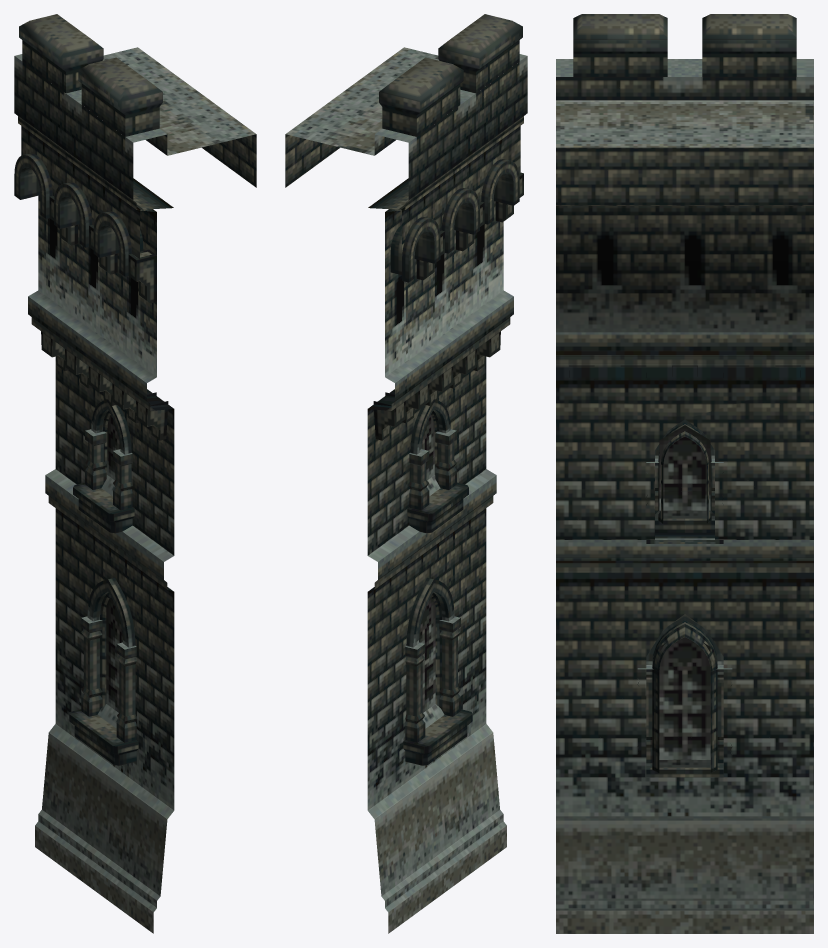
Rendered from EnvBdgMD_Castle_Raimei_A_Wall_A_Window_Loop_300W.FBX.
The picture shows the model from 3 angles, left to right: view 1: azimuth 30°, elevation 25°; view 2: azimuth 150°, elevation 25°; view 3: azimuth 270°, elevation 25°; orthographic projection. The views are drawn at different scales.
Visible parts, largest first — view 1: EnvBdgMD_Castle_Raimei_A_Wall_A_Window_Loop_300W; view 2: EnvBdgMD_Castle_Raimei_A_Wall_A_Window_Loop_300W; view 3: EnvBdgMD_Castle_Raimei_A_Wall_A_Window_Loop_300W.
Part boxes in pixels (x1,y1,x2,y2): EnvBdgMD_Castle_Raimei_A_Wall_A_Window_Loop_300W: [14, 14, 256, 933]; EnvBdgMD_Castle_Raimei_A_Wall_A_Window_Loop_300W: [285, 14, 527, 933]; EnvBdgMD_Castle_Raimei_A_Wall_A_Window_Loop_300W: [556, 14, 813, 933].
Bounding box in the file's own units: 185 × 1170 × 300.
